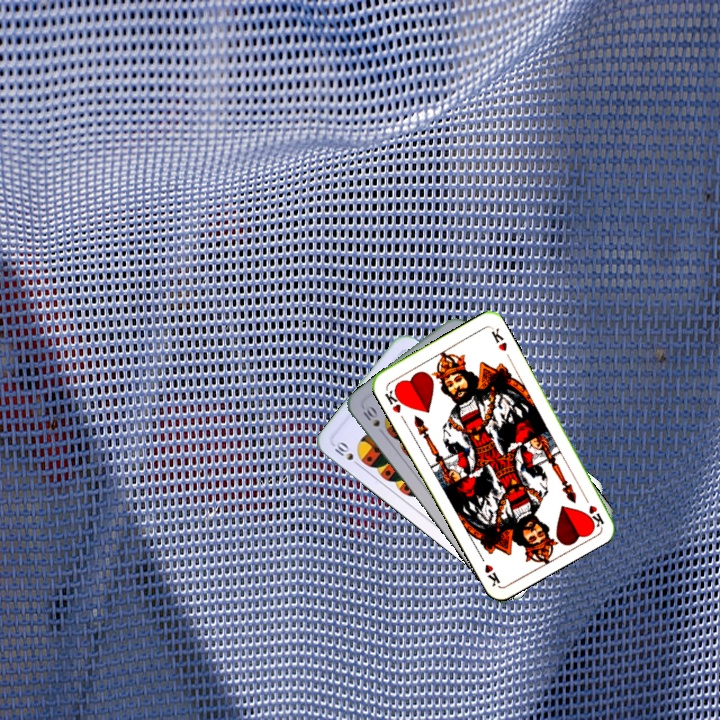HK: (579, 490, 607, 529), (380, 384, 407, 416)
S10: (329, 437, 364, 470), (359, 402, 388, 438)
